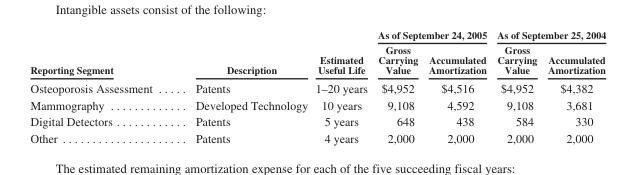table: (29, 28, 605, 144)
table column: (29, 28, 173, 144), (173, 28, 310, 144), (422, 28, 491, 144), (541, 28, 605, 144), (310, 28, 372, 144), (372, 28, 422, 144), (491, 28, 541, 144)
table column header: (29, 28, 605, 78)
table row: (29, 42, 605, 78), (29, 78, 605, 96), (29, 112, 605, 129), (29, 96, 605, 112), (29, 129, 605, 144), (29, 28, 605, 42)
table spanning cell: (29, 28, 173, 78), (173, 28, 310, 78), (310, 28, 372, 78), (372, 28, 491, 42), (491, 28, 605, 42)
